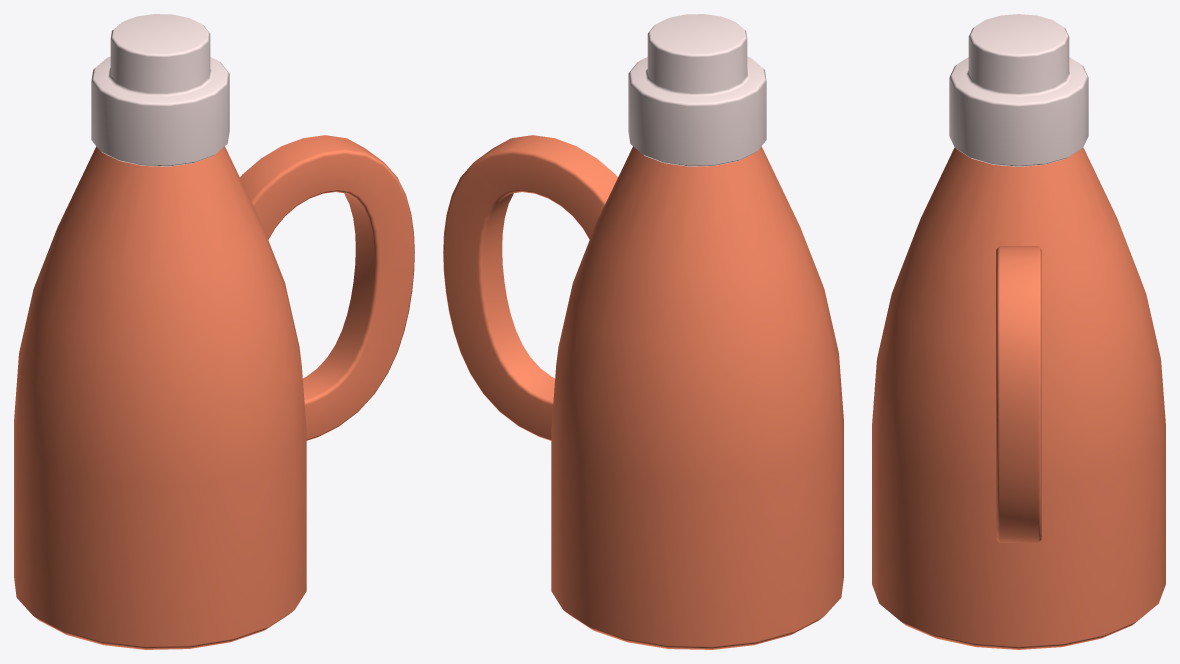
The model's file is Public_13_Bottle_8.glb.
3 renders of one model, left to right at view 1: azimuth 30°, elevation 25°; view 2: azimuth 150°, elevation 25°; view 3: azimuth 270°, elevation 25°, orthographic.
Visible parts, largest first — view 1: Public_13_Bottle_8; view 2: Public_13_Bottle_8; view 3: Public_13_Bottle_8.
Part boxes in pixels (x1=…): Public_13_Bottle_8: x1=14, y1=14, x2=414, y2=649; Public_13_Bottle_8: x1=443, y1=14, x2=843, y2=649; Public_13_Bottle_8: x1=872, y1=14, x2=1165, y2=649.
Size of the model in its own units: 0.4658 by 0.6664 by 0.3188.
1 material, 1 textured.
